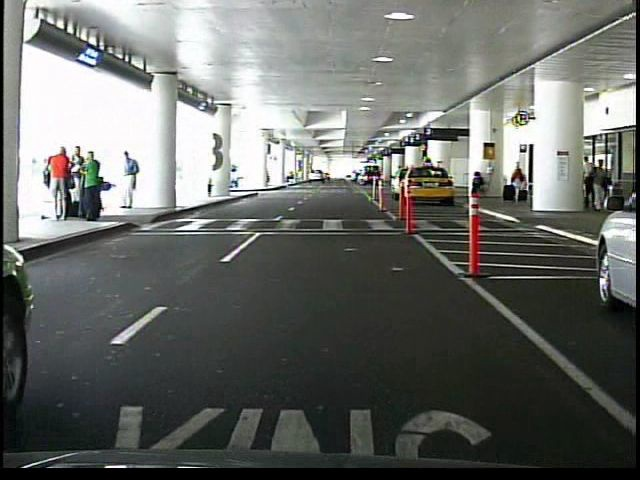person: (51, 144, 74, 221), (82, 151, 104, 225), (587, 153, 611, 211), (119, 151, 141, 213), (73, 145, 88, 212), (510, 160, 526, 204), (468, 170, 486, 199)
